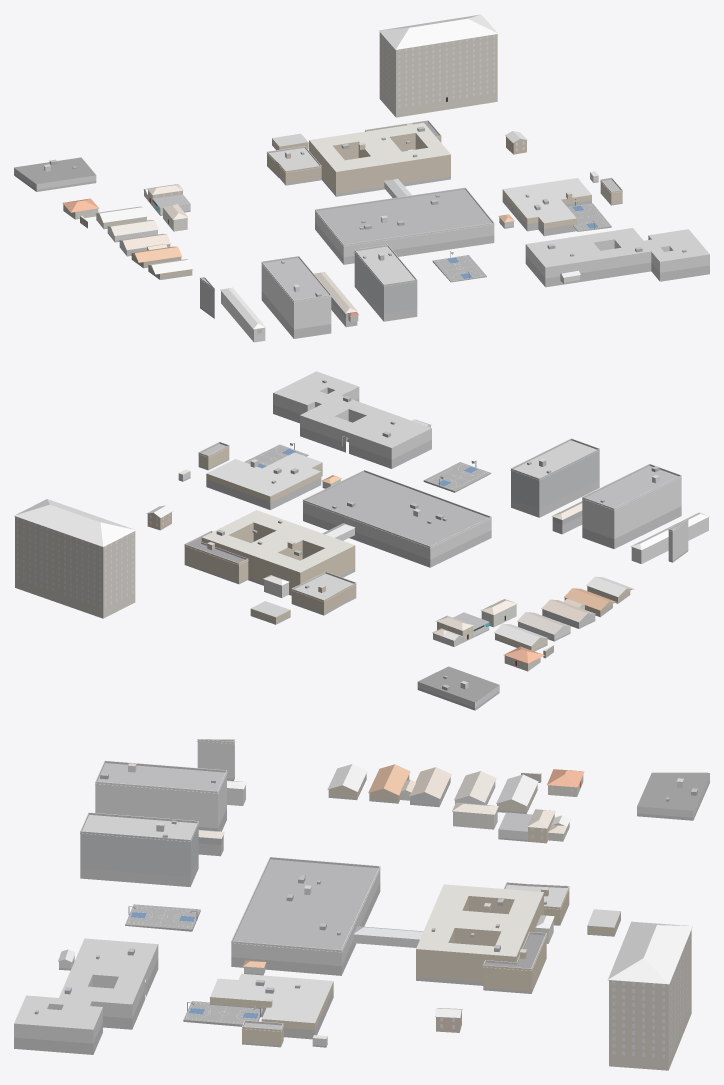
File: bld_-2_0.dae
3 renders of one model, top to bottom at view 1: azimuth 30°, elevation 25°; view 2: azimuth 150°, elevation 25°; view 3: azimuth 270°, elevation 25°, orthographic. The views are drawn at different scales.
Visible parts, largest first — view 1: blda1935; view 2: blda1935; view 3: blda1935.
Part boxes in pixels (left/top/right/bottom): blda1935: left=14, top=14, right=709, bottom=342; blda1935: left=14, top=371, right=709, bottom=710; blda1935: left=14, top=739, right=709, bottom=1070.
Size of the model in its own units: 261 by 270 by 42.06.
